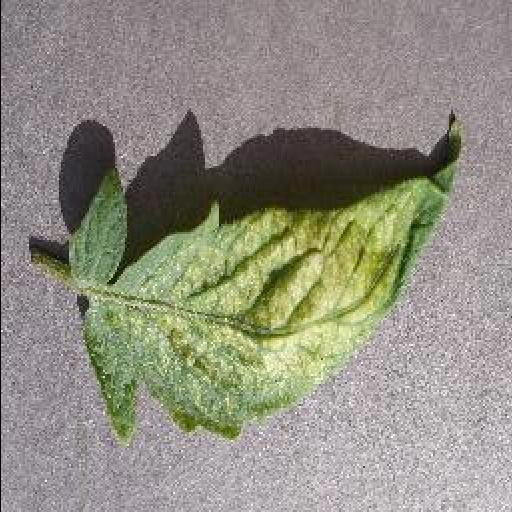disease_tomato: (72, 116, 466, 444)
